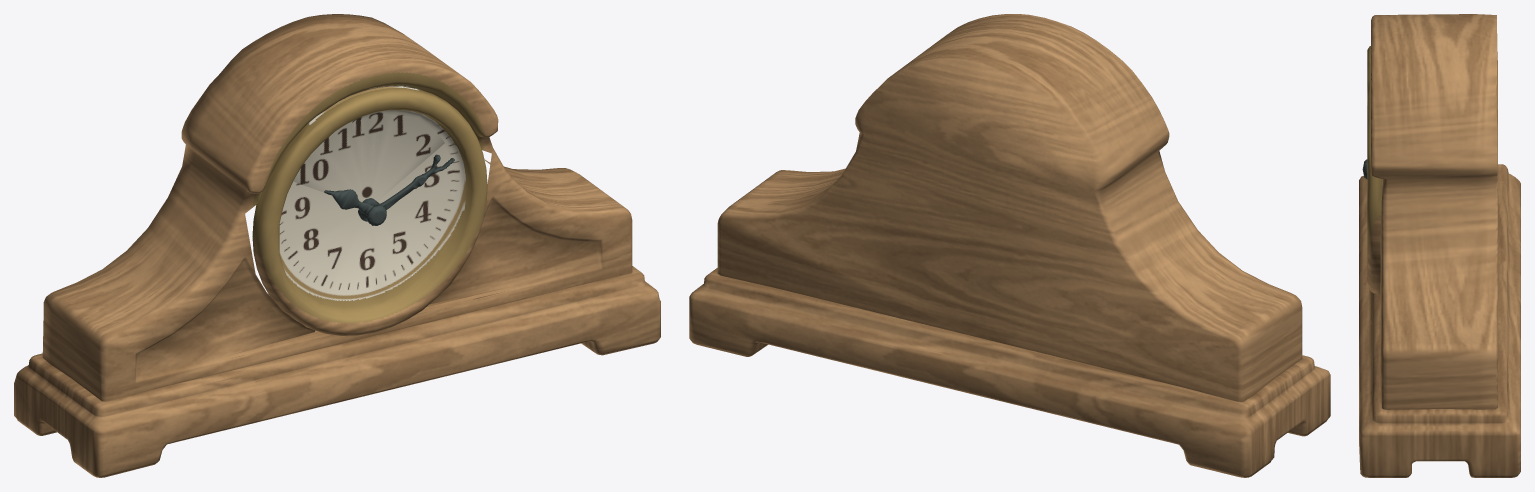
The model's file is clock.glb.
The picture shows the model from 3 angles, left to right: view 1: azimuth 30°, elevation 25°; view 2: azimuth 150°, elevation 25°; view 3: azimuth 270°, elevation 25°; orthographic projection. The views are drawn at different scales.
Visible parts, largest first — view 1: clock; view 2: clock; view 3: clock.
Part boxes in pixels (bbox=[...]): clock: bbox=[14, 14, 660, 477]; clock: bbox=[689, 14, 1330, 477]; clock: bbox=[1359, 14, 1520, 477].
Size of the model in its own units: 0.998 by 0.5762 by 0.2637.
Materials: 1 (1 with a texture image).
